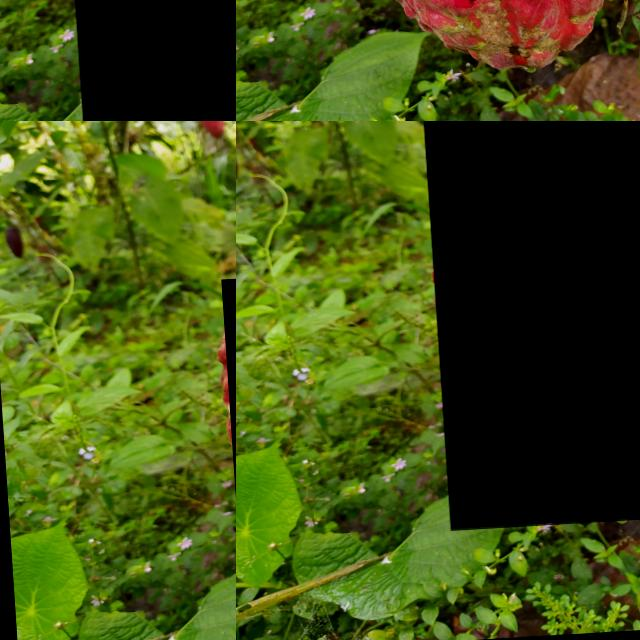Sana: (421, 121, 640, 533), (55, 0, 236, 121)
